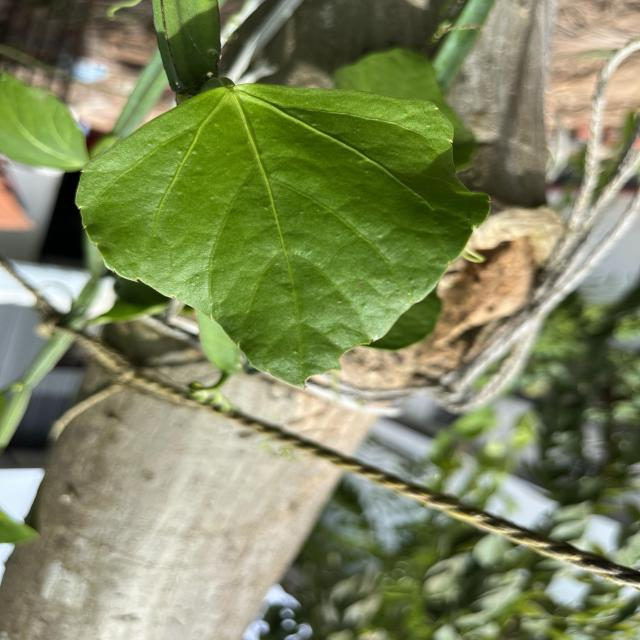Cissus quadrangularis: (72, 80, 496, 393)
